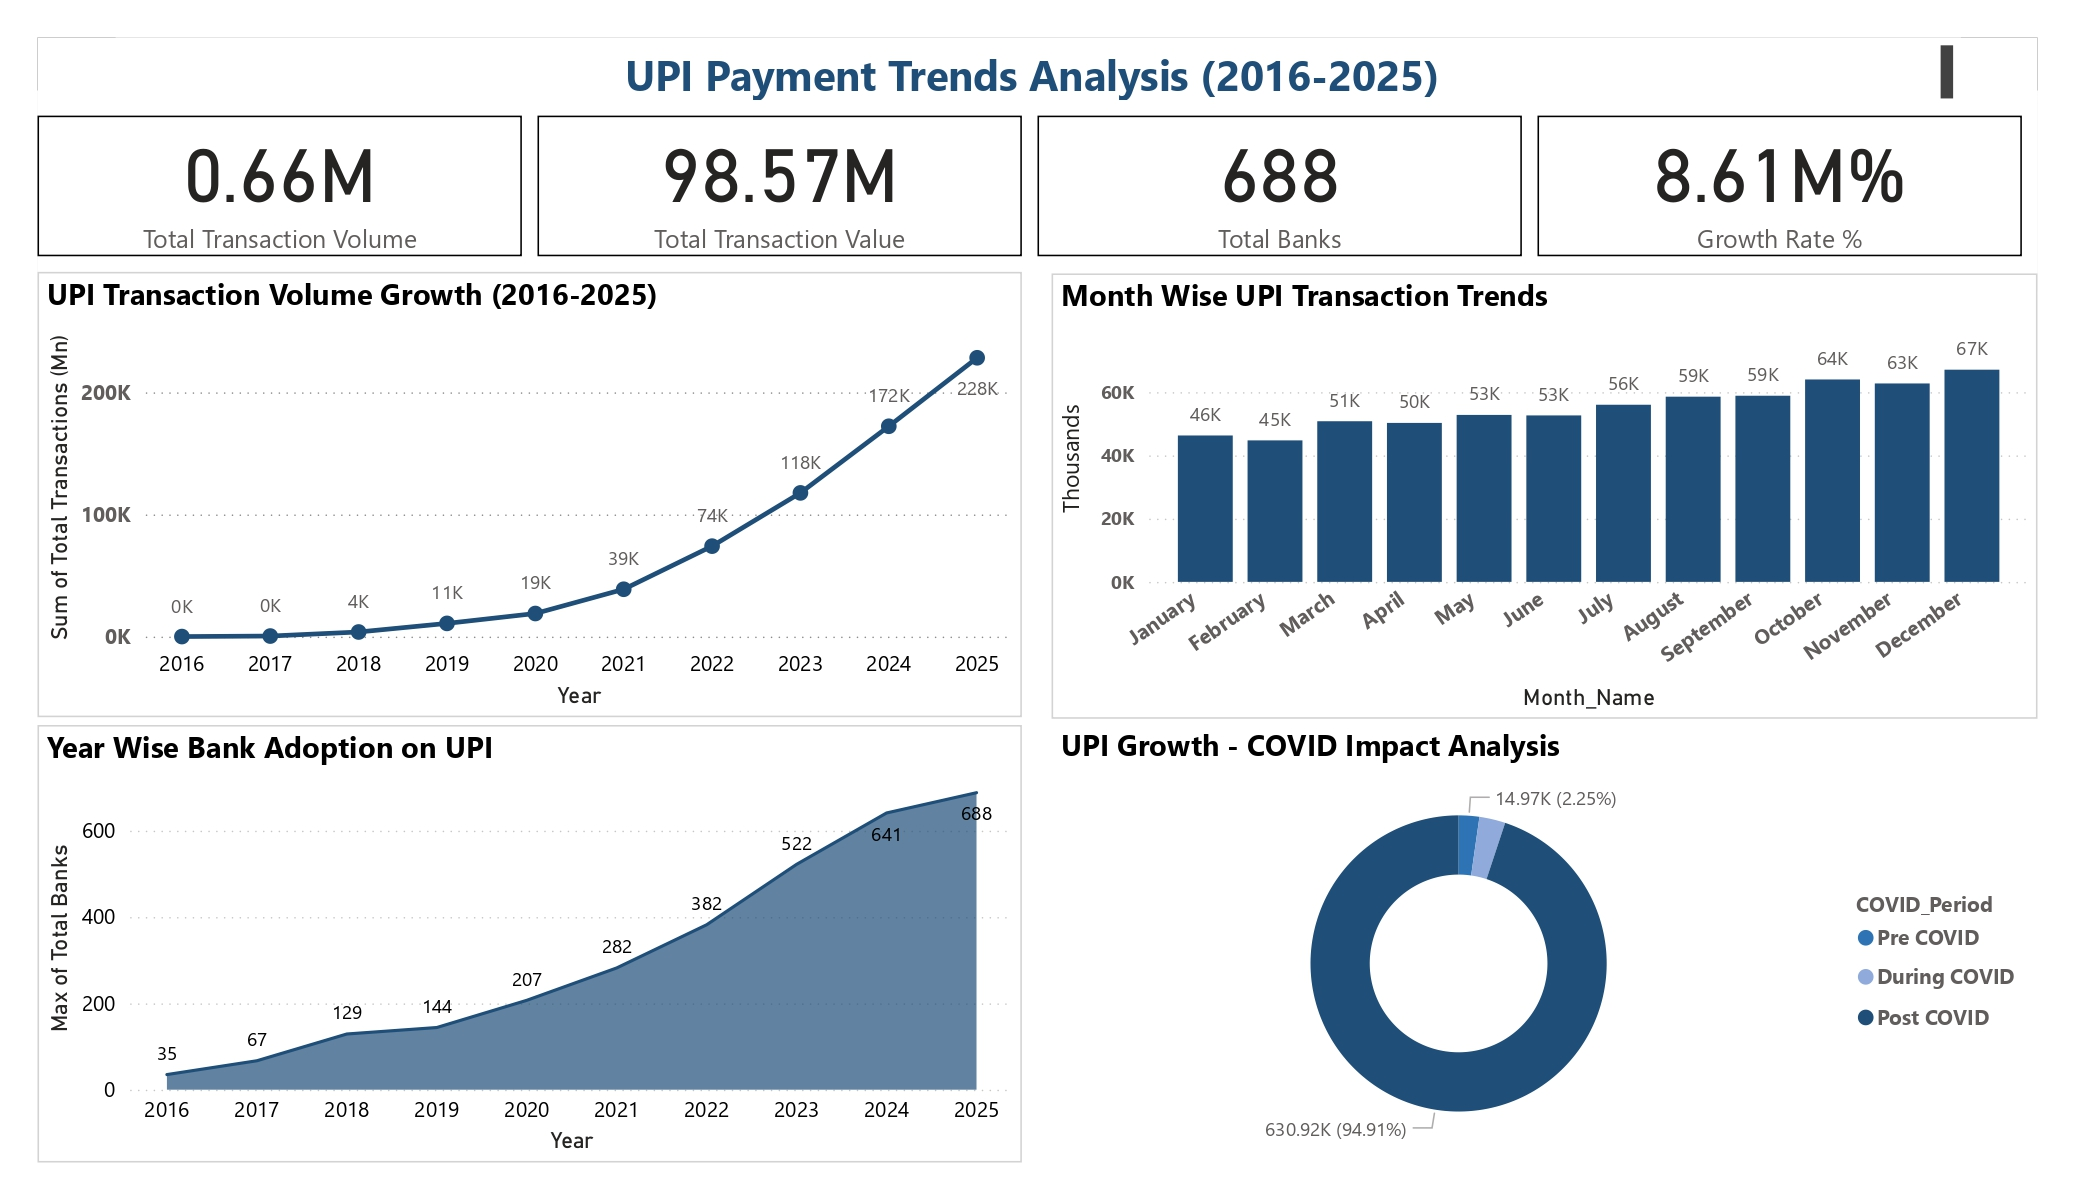

The dashboard page shown, as its layout file describes it:
{"tool":"powerbi","page":{"name":"Page 1","canvas":[1280,720],"ordinal":0},"visuals":[{"type":"card","fields":{"Values":["Sum(upi_cleaned_data.Transaction_Volume_Mn)"]},"box":[0,50,310,90],"z":0},{"type":"card","fields":{"Values":["Sum(upi_cleaned_data.Transaction_Value_Cr)"]},"box":[320,50,310,90],"z":1000},{"type":"card","fields":{"Values":["Max(upi_cleaned_data.Bank_Count)"]},"box":[640,50,310,90],"z":2000},{"type":"card","fields":{"Values":["upi_cleaned_data.Growth Rate %"]},"box":[960,50,310,90],"z":3000},{"type":"lineChart","title":"UPI Transaction Volume Growth (2016-2025)","fields":{"Y":["Sum(upi_cleaned_data.Total Transactions (Mn))"],"Category":["upi_cleaned_data.Month.Variation.Date Hierarchy.Year"]},"box":[0,150,630,285],"z":4000},{"type":"clusteredColumnChart","title":"Month Wise UPI Transaction Trends","fields":{"Category":["upi_cleaned_data.Month_Name"],"Y":["Sum(upi_cleaned_data.Total Transactions (Mn))"]},"box":[649.5,150.5,630.8,285],"z":5000},{"type":"areaChart","title":"Year Wise Bank Adoption on UPI","fields":{"Category":["upi_cleaned_data.Month.Variation.Date Hierarchy.Year"],"Y":["Max(upi_cleaned_data.Total Banks)"]},"box":[0,440,630,280],"z":6000},{"type":"donutChart","title":"UPI Growth - COVID Impact Analysis","fields":{"Category":["upi_cleaned_data.COVID_Period"],"Y":["Sum(upi_cleaned_data.Total Transactions (Mn))"]},"box":[650,440,630,280],"z":7000},{"type":"textbox","box":[50,0,1181,45],"z":8000}]}

Visuals, with their boxes on the page's 1280x720 design canvas (x1, y1, x2, y2). These are canvas units, not pixel positions in the 2075x1200 screenshot, which may show the page scaled, cropped or inside an application window:
card - Sum(upi_cleaned_data.Transaction_Volume_Mn): {"left": 0, "top": 50, "right": 310, "bottom": 140}
card - Sum(upi_cleaned_data.Transaction_Value_Cr): {"left": 320, "top": 50, "right": 630, "bottom": 140}
card - Max(upi_cleaned_data.Bank_Count): {"left": 640, "top": 50, "right": 950, "bottom": 140}
card - upi_cleaned_data.Growth Rate %: {"left": 960, "top": 50, "right": 1270, "bottom": 140}
"UPI Transaction Volume Growth (2016-2025)" lineChart: {"left": 0, "top": 150, "right": 630, "bottom": 435}
"Month Wise UPI Transaction Trends" clusteredColumnChart: {"left": 650, "top": 150, "right": 1280, "bottom": 436}
"Year Wise Bank Adoption on UPI" areaChart: {"left": 0, "top": 440, "right": 630, "bottom": 720}
"UPI Growth - COVID Impact Analysis" donutChart: {"left": 650, "top": 440, "right": 1280, "bottom": 720}
textbox: {"left": 50, "top": 0, "right": 1231, "bottom": 45}
